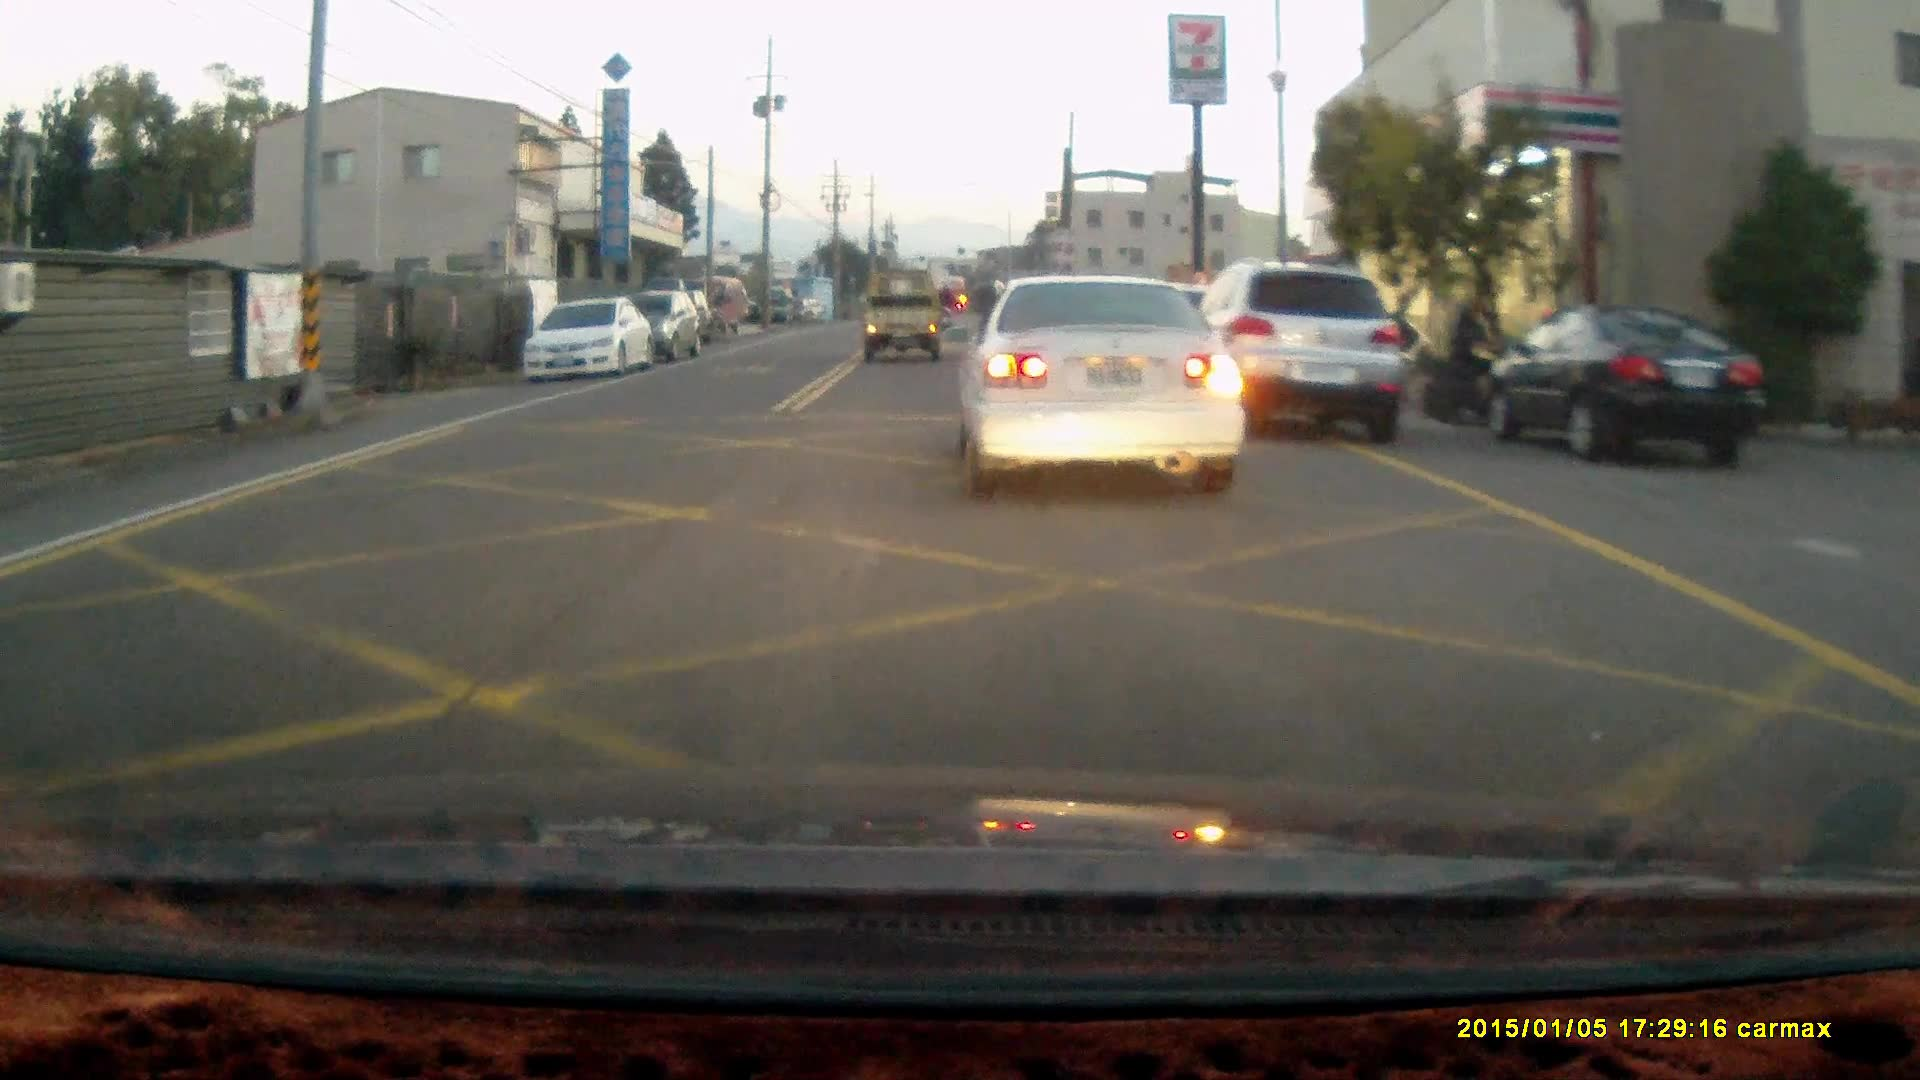rider: (1428, 296, 1525, 427), (933, 281, 959, 331)
vehicle: (958, 275, 1250, 488), (1483, 293, 1771, 462), (1194, 263, 1417, 449), (517, 294, 658, 383), (858, 269, 945, 360), (627, 294, 707, 362)
